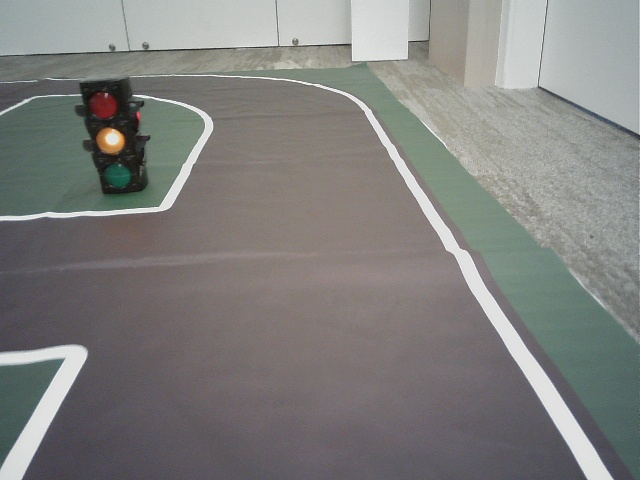yellow: (79, 86, 137, 186)
